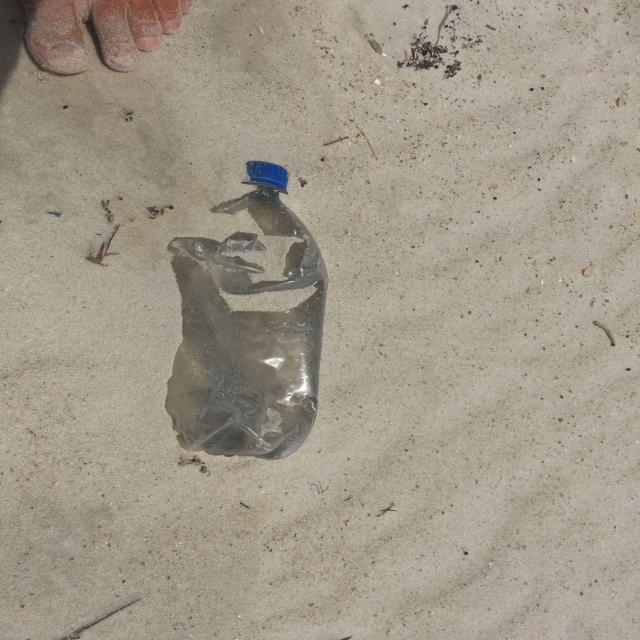litter: (166, 161, 329, 461)
